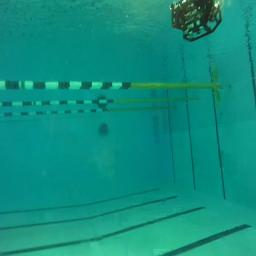Side: (170, 0, 226, 44)
